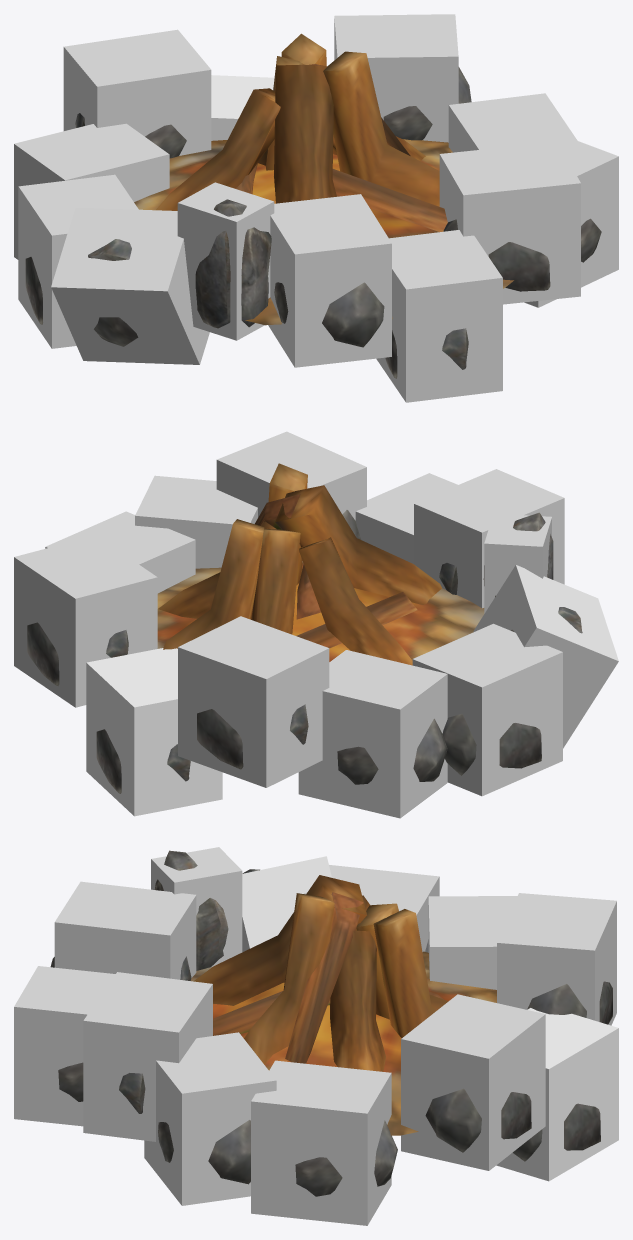
File: Bonfires (2).fbx
The picture shows the model from 3 angles, top to bottom: view 1: azimuth 30°, elevation 25°; view 2: azimuth 150°, elevation 25°; view 3: azimuth 270°, elevation 25°; orthographic projection. The views are drawn at different scales.
Visible parts, largest first — view 1: Timber_C, Cube__2__10, Cube__2__5, Cube__2__4, Cube__2__2, Cube__2__6, Cube__2__8, Cube__2__9, Cube__2__7, Cube__1_, Cube__2__1, Stone_Cliff_J__29_ (+10 smaller); view 2: Timber_C, Cube__2__6, Cube__2__9, Cube__2__8, Cube__2__7, Cube__2_, Cube__2__4, Cube__2__10, Cube__2__2, Cube__2__1, Cube__2__3, Cube__2__5 (+7 smaller); view 3: Timber_C, Cube__2__3, Cube__2__8, Cube__2__2, Cube__2__1, Cube__2__6, Cube__2__4, Cube__2__5, Cube__2_, Cube__2__9, Cube__2__10, Cube__1_ (+9 smaller).
Part boxes in pixels (x1,y1,x2,y2): Timber_C: (134,33,513,325); Cube__2__10: (51,207,209,364); Cube__2__5: (376,230,502,402); Cube__2__4: (268,194,391,367); Cube__2__2: (439,142,580,304); Cube__2__6: (63,29,211,155); Cube__2__8: (334,14,458,142); Cube__2__9: (14,123,169,259); Cube__2__7: (18,174,138,348); Cube__1_: (177,182,274,340); Cube__2__1: (504,128,618,307); Stone_Cliff_J__29_: (195,199,271,328); Timber_C: (157,463,484,665); Cube__2__6: (178,616,329,787); Cube__2__9: (298,650,447,818); Cube__2__8: (14,535,157,707); Cube__2__7: (412,623,562,796); Cube__2_: (86,648,222,816); Cube__2__4: (414,469,564,608); Cube__2__10: (473,565,618,748); Cube__2__2: (216,431,366,561); Cube__2__1: (135,475,257,568); Cube__2__3: (45,511,195,593); Cube__2__5: (355,473,457,563); Timber_C: (191,875,496,1135); Cube__2__3: (251,1060,391,1225); Cube__2__8: (401,994,545,1170); Cube__2__2: (83,972,212,1141); Cube__2__1: (144,1032,276,1205); Cube__2__6: (497,893,616,1025); Cube__2__4: (54,881,196,979); Cube__2__5: (14,966,115,1126); Cube__2_: (496,1008,618,1181); Cube__2__9: (428,896,517,989); Cube__2__10: (242,856,331,952); Cube__1_: (151,847,242,966).
Bounding box in the file's own units: 387 × 169 × 375.
